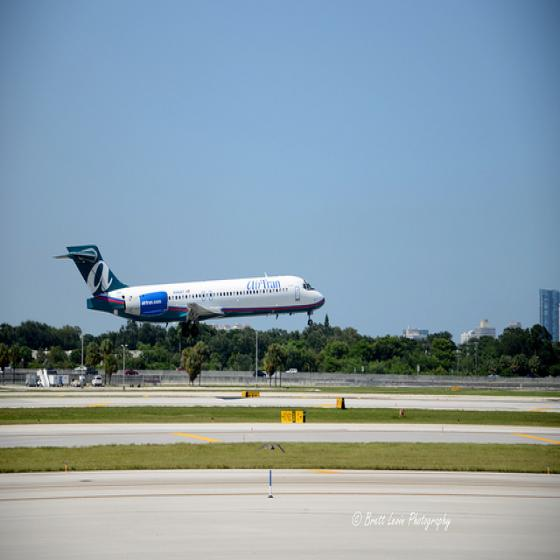airplane: (52, 249, 326, 319)
car: (92, 375, 102, 387), (253, 370, 266, 377), (124, 369, 138, 375), (285, 368, 299, 372)
truck: (58, 374, 69, 388), (48, 375, 59, 385), (37, 376, 45, 387)
